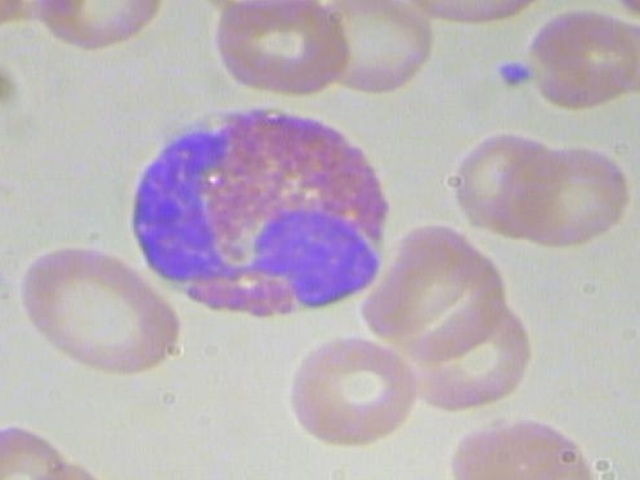Platelets: (493, 55, 540, 94), (0, 252, 16, 306)
RBC: (13, 233, 189, 385), (279, 327, 422, 454), (492, 134, 634, 260), (210, 0, 352, 104), (520, 7, 640, 116), (445, 404, 593, 480)
WBC: (114, 96, 400, 328)
